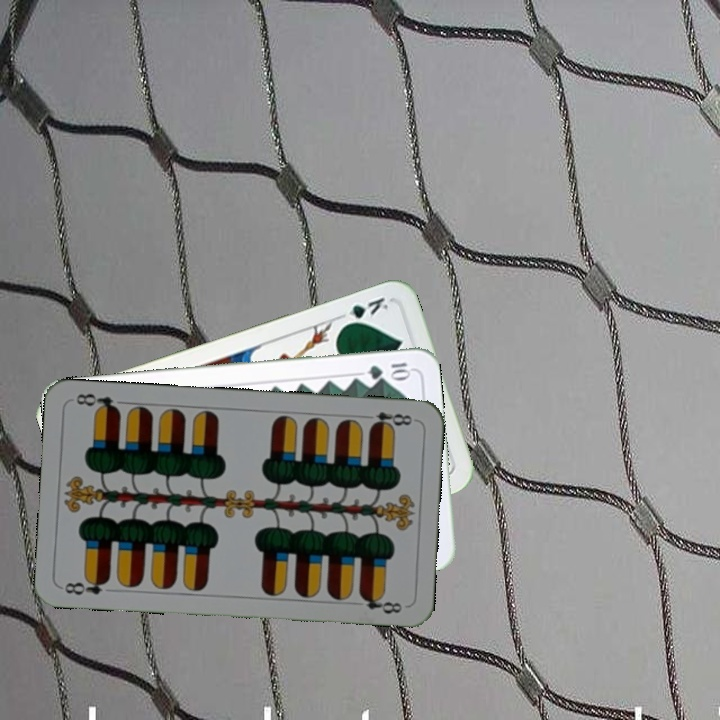E8: (359, 408, 415, 432), (61, 573, 113, 598)
G10: (364, 358, 414, 382)
GK: (334, 293, 391, 329)
